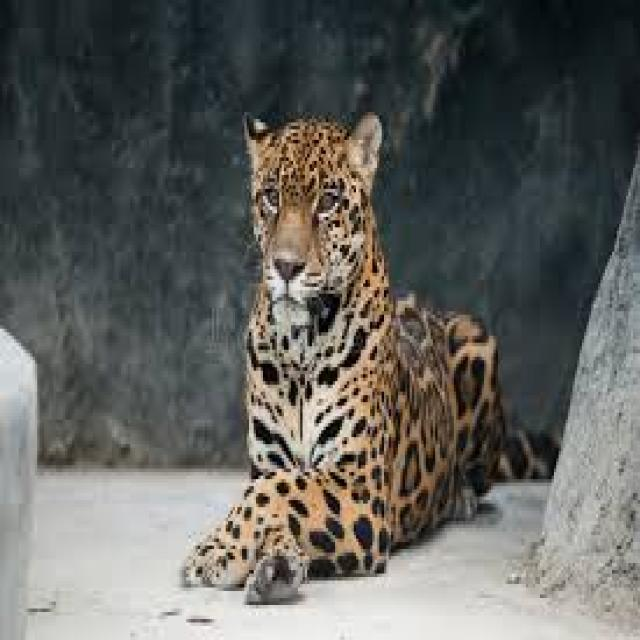Jaguar: (200, 109, 517, 574)
